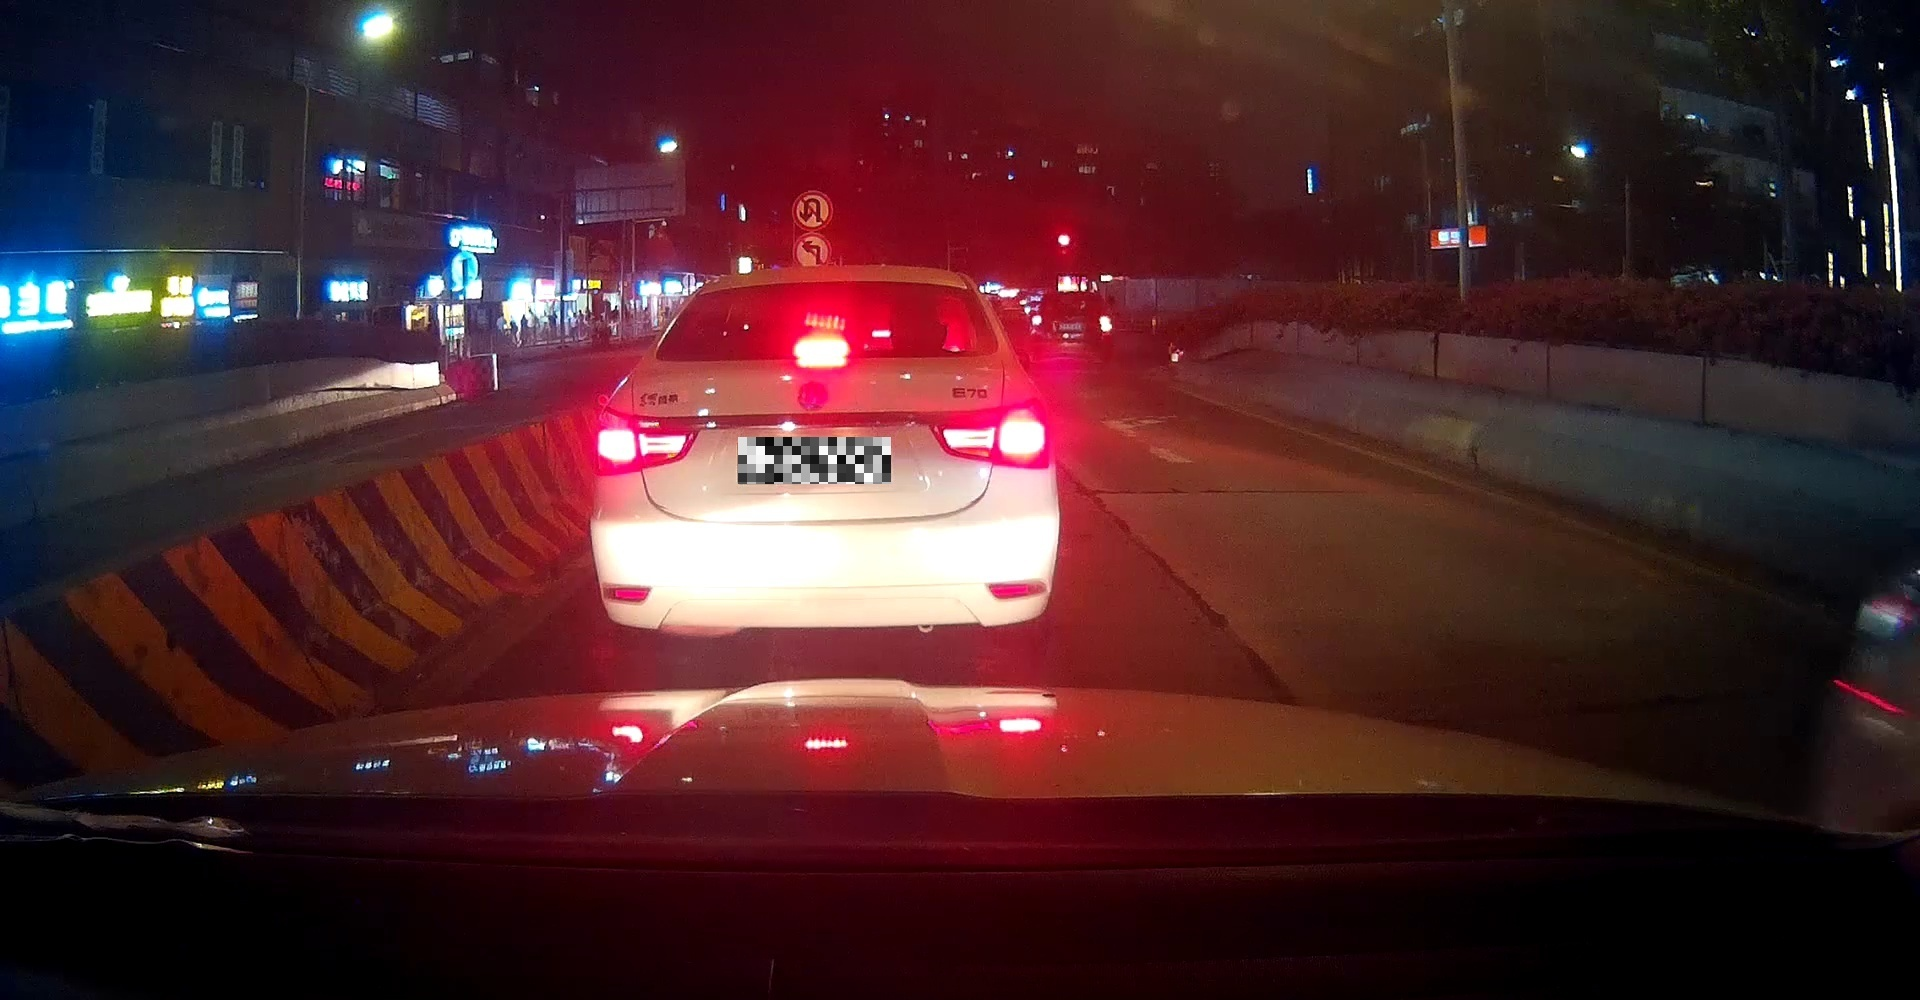L_light: (594, 407, 698, 476)
R_light: (932, 400, 1051, 470)
T_light: (796, 341, 844, 360)
night-brake: (590, 270, 1062, 655)
plate_1: (738, 437, 891, 484)
